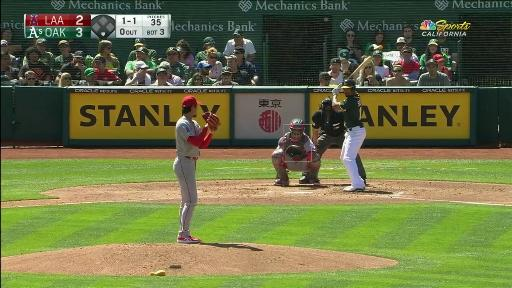pitcher: (175, 95, 220, 242)
